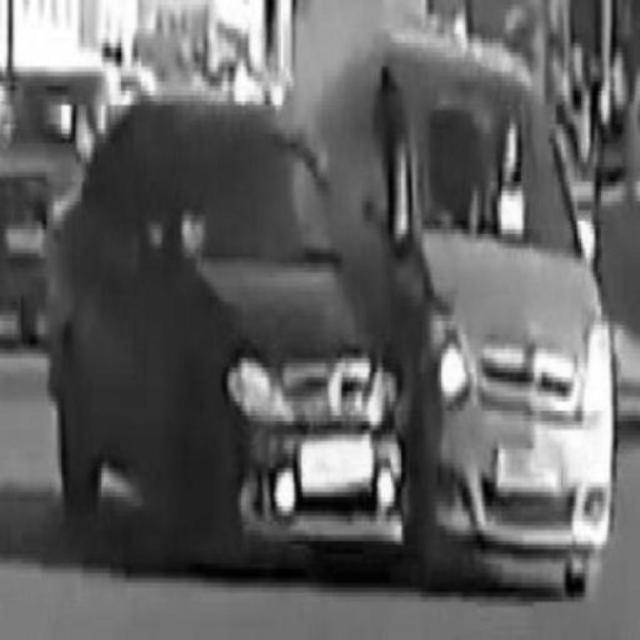accident: (57, 40, 609, 597)
